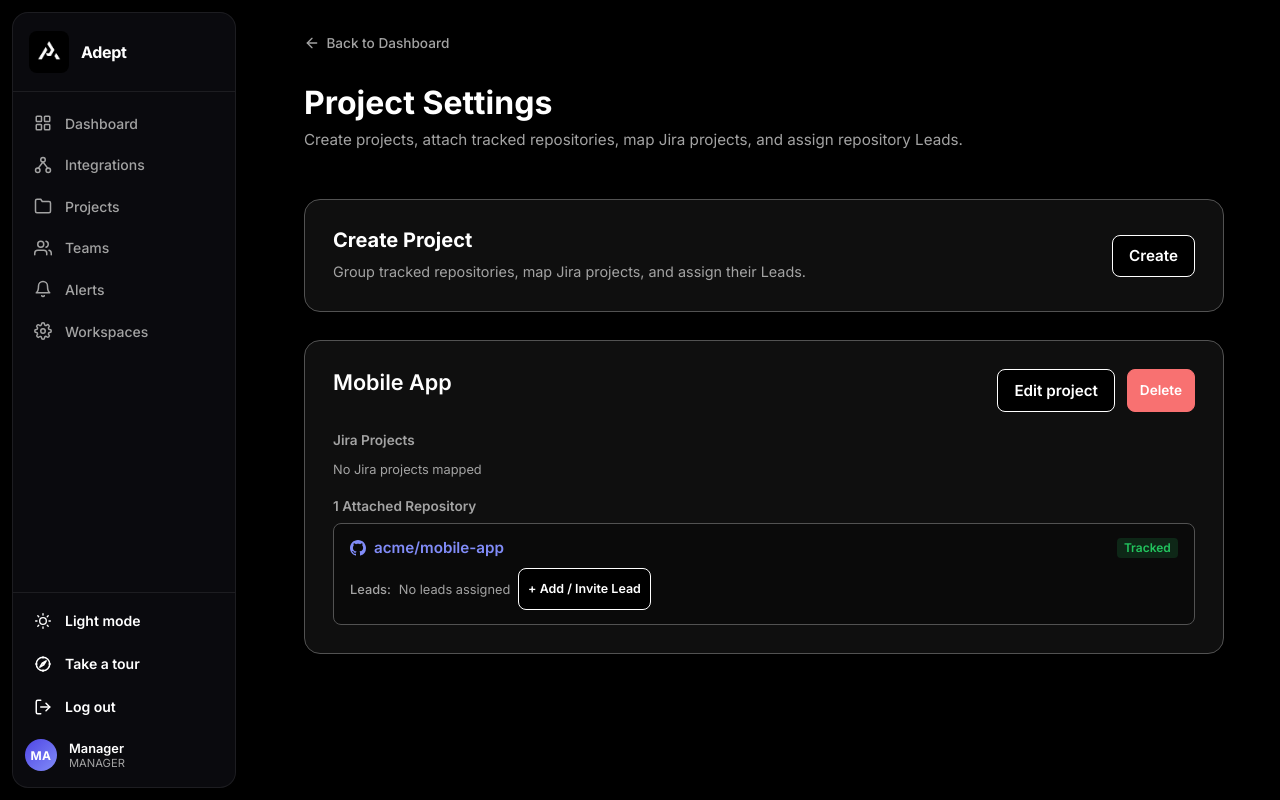
ProjectsPage with Lead Assignments › allows assigning a lead by work email to an attached repository
Click the button "+ Add / Invite Lead".
click(584, 589)  # box [518,568,651,610]
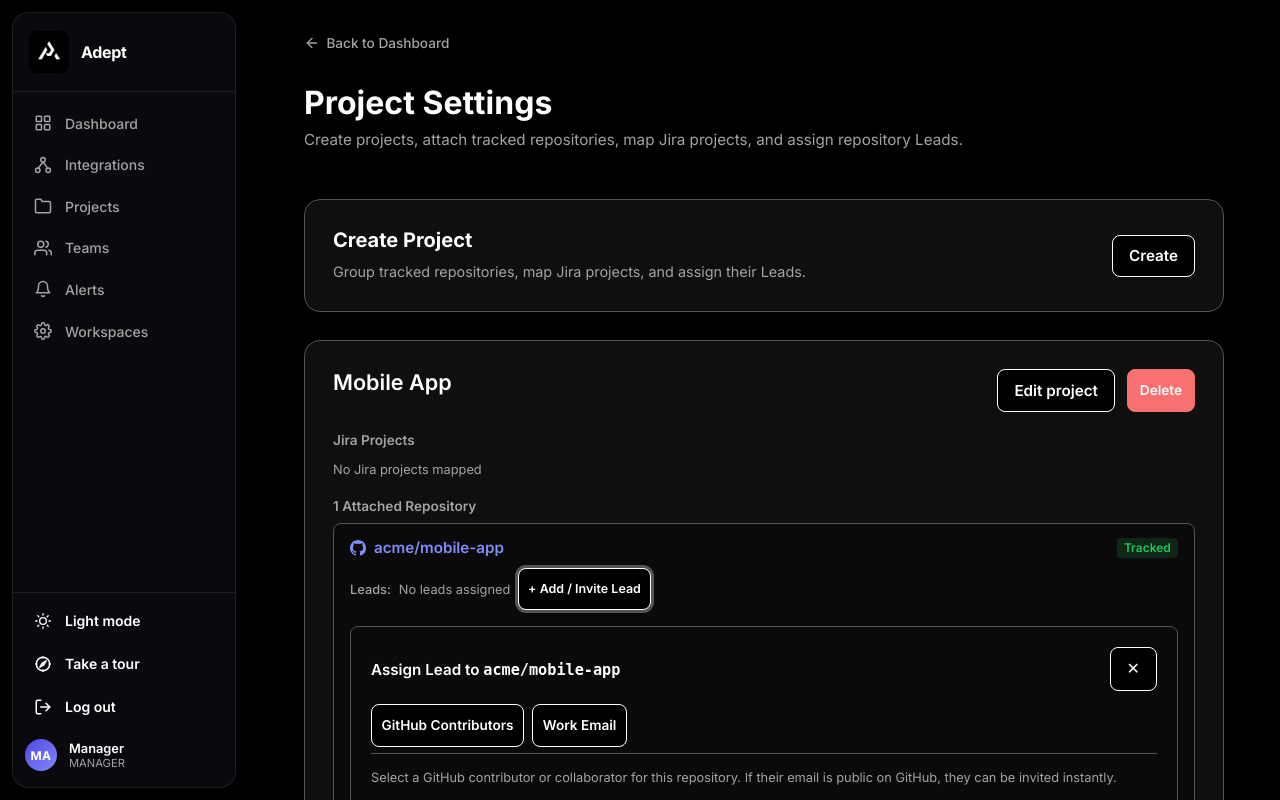
Click the button "Work Email".
click(580, 726)  # box [532,704,627,747]
(page scrolled)
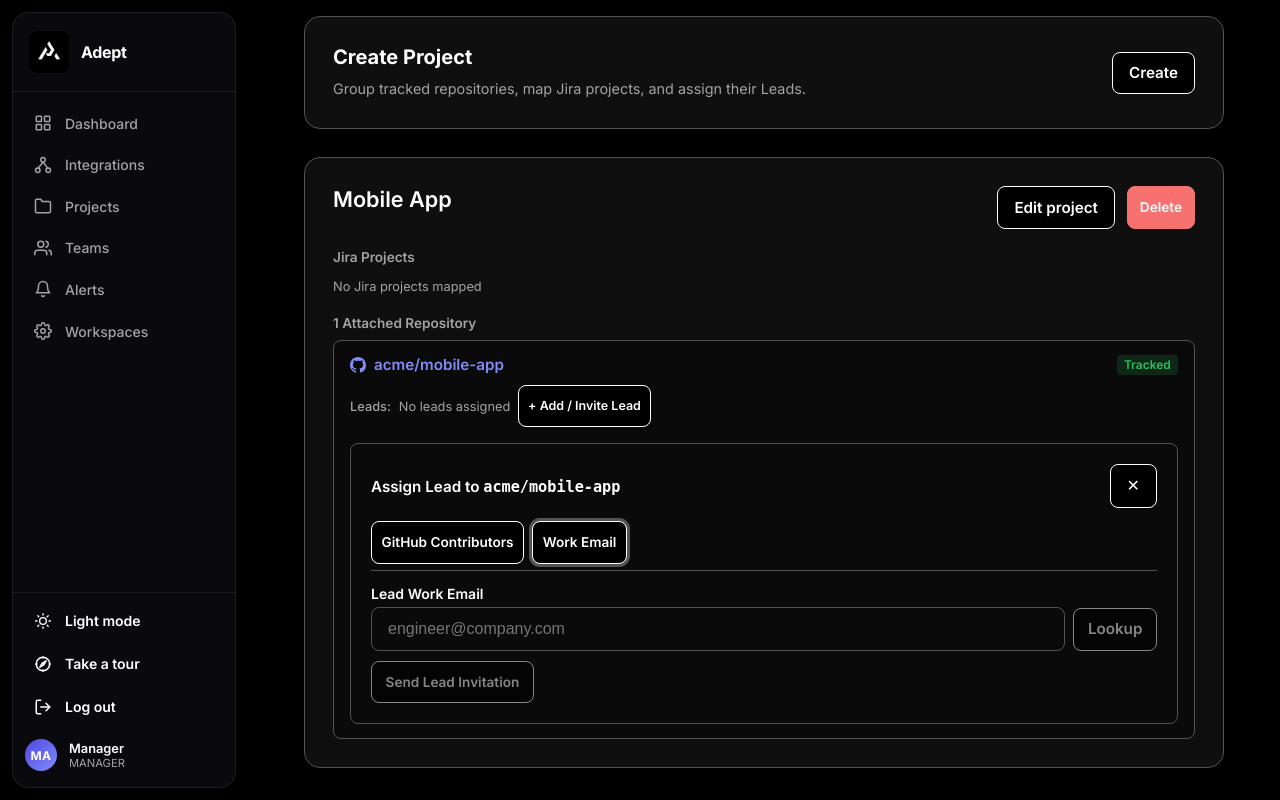
Type "engineer@example.com" into the field labelled "Lead Work Email".
click(718, 629); type("engineer@example.com")  # box [371,607,1065,651]
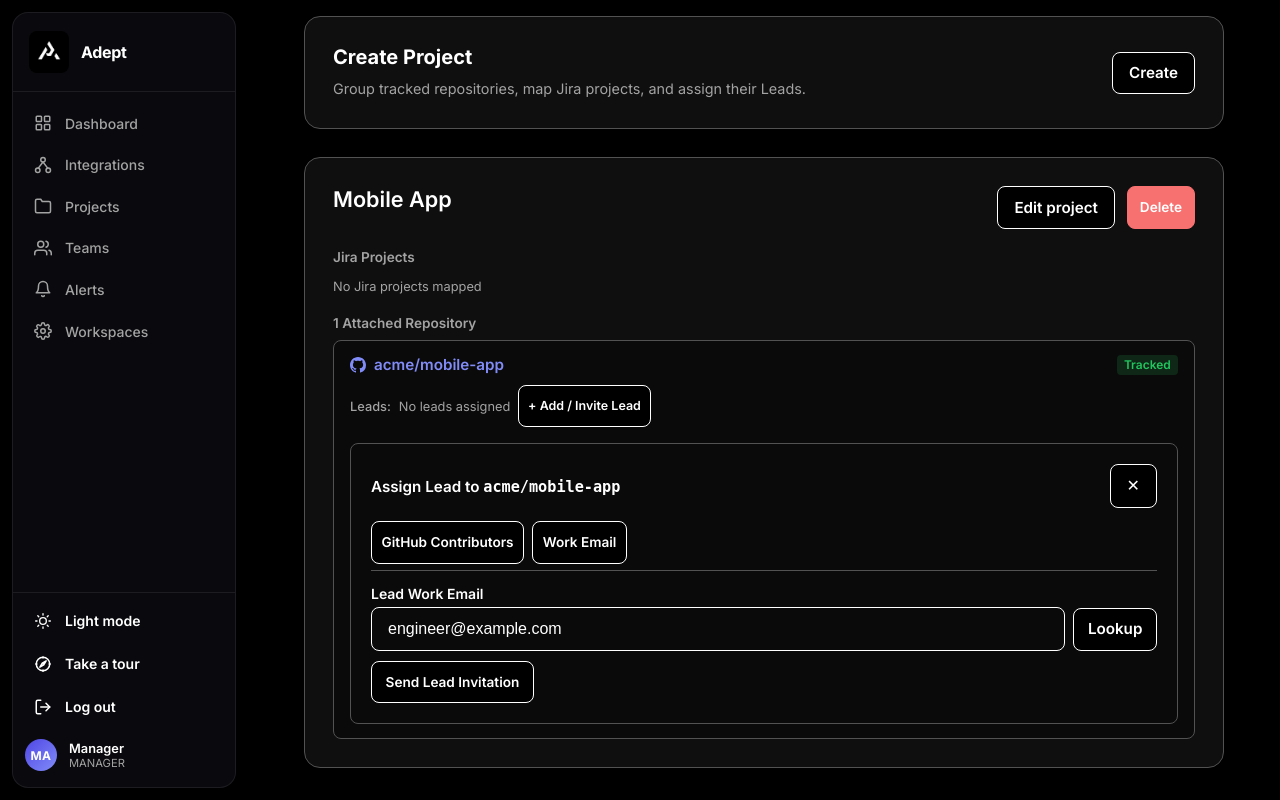
Click the button "Send Lead Invitation".
click(452, 682)  # box [371,661,534,703]
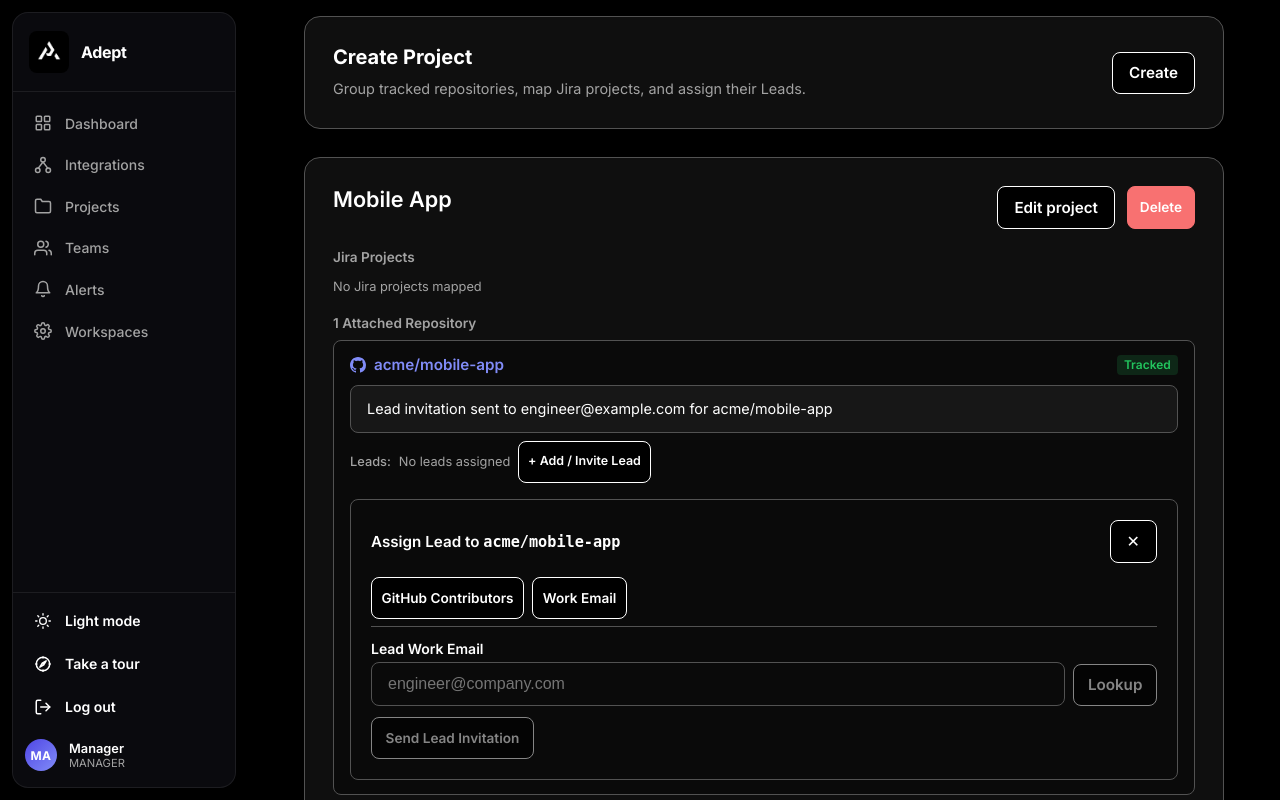
expect the text "Lead invitation sent to engineer@example.com for acme/mobile-app" is shown: met, box [350,385,1178,432]
